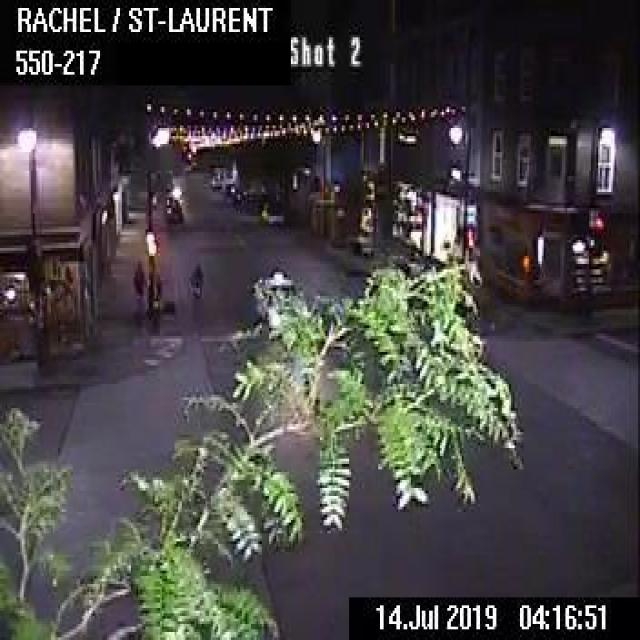cyclist: (187, 256, 202, 304)
pedestrian: (129, 259, 144, 306)
vehicle: (259, 199, 283, 225), (164, 199, 181, 220)
